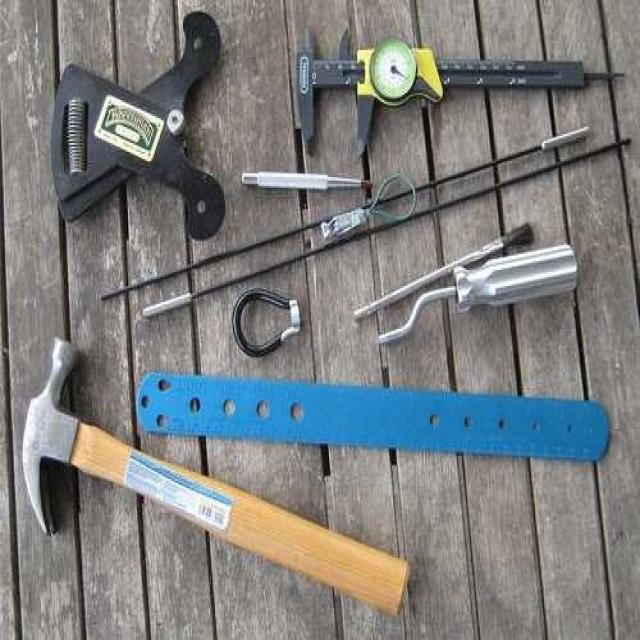hammer: (20, 333, 413, 635)
